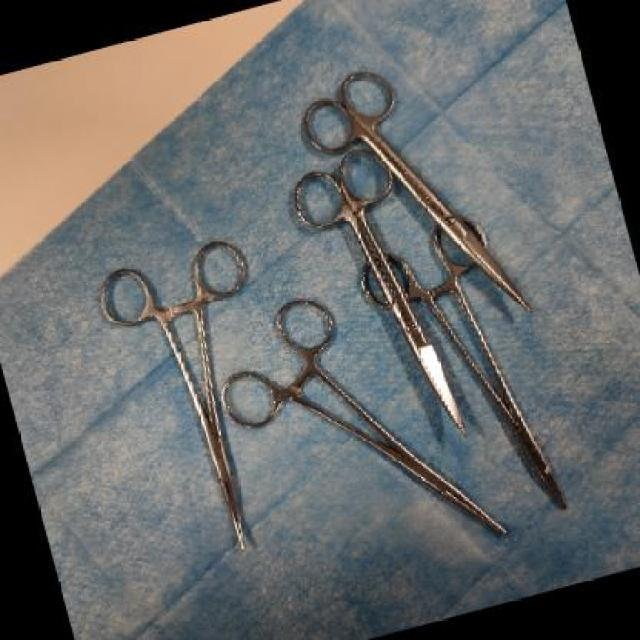tools_table: (90, 58, 586, 576)
